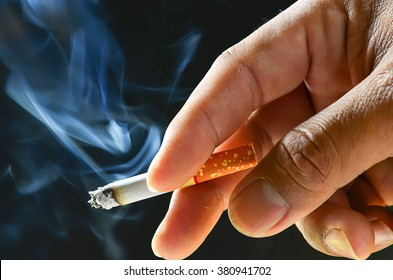cigarette: (84, 141, 263, 213)
